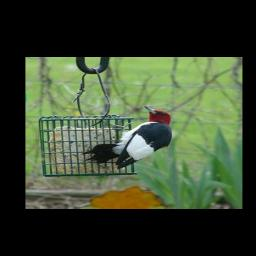Woodpecker: (81, 105, 171, 169)
